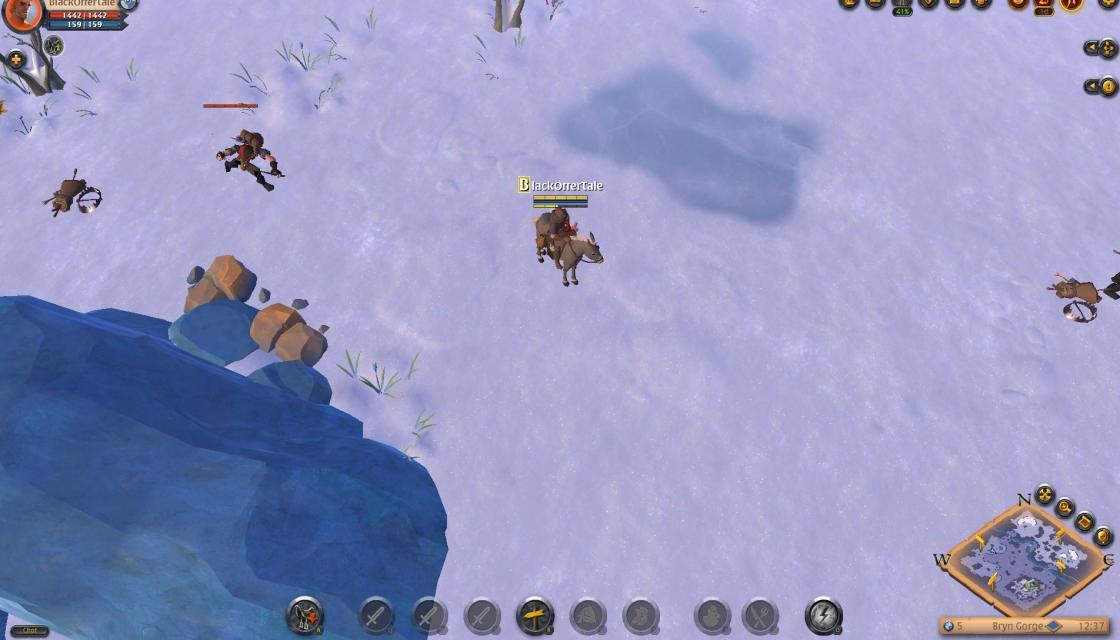limestone: (245, 295, 335, 366), (182, 251, 260, 318)
